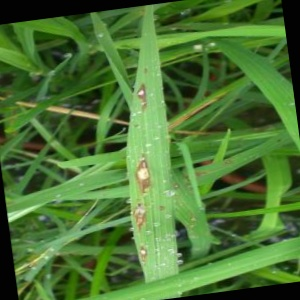Brown_Spot: (124, 154, 162, 197), (124, 198, 152, 234), (134, 76, 153, 110), (133, 241, 153, 261)
